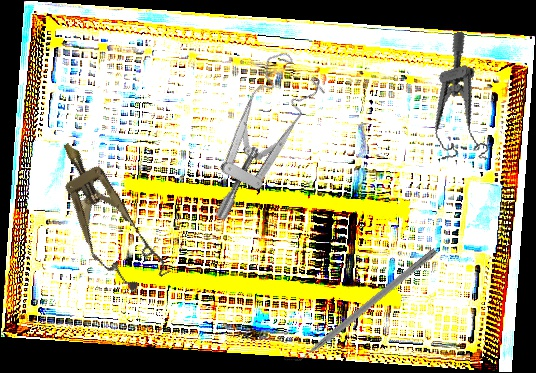Chopper: (282, 240, 438, 371)
Speculum: (160, 41, 350, 224), (38, 128, 173, 302), (409, 30, 499, 172)
